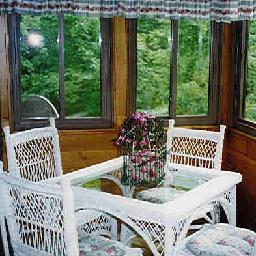Ventana: (13, 13, 110, 128), (130, 16, 218, 125)
